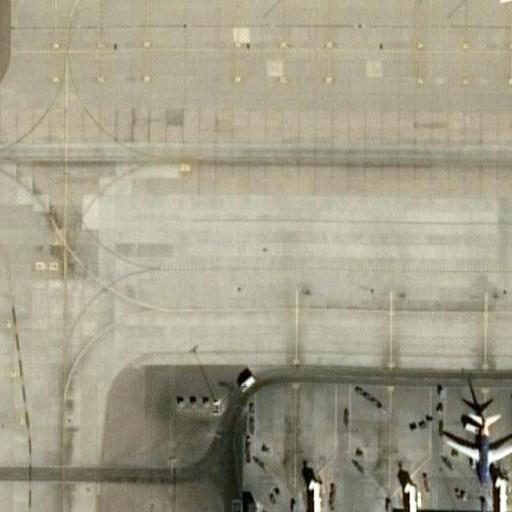Aircraft: (431, 398, 512, 492)
